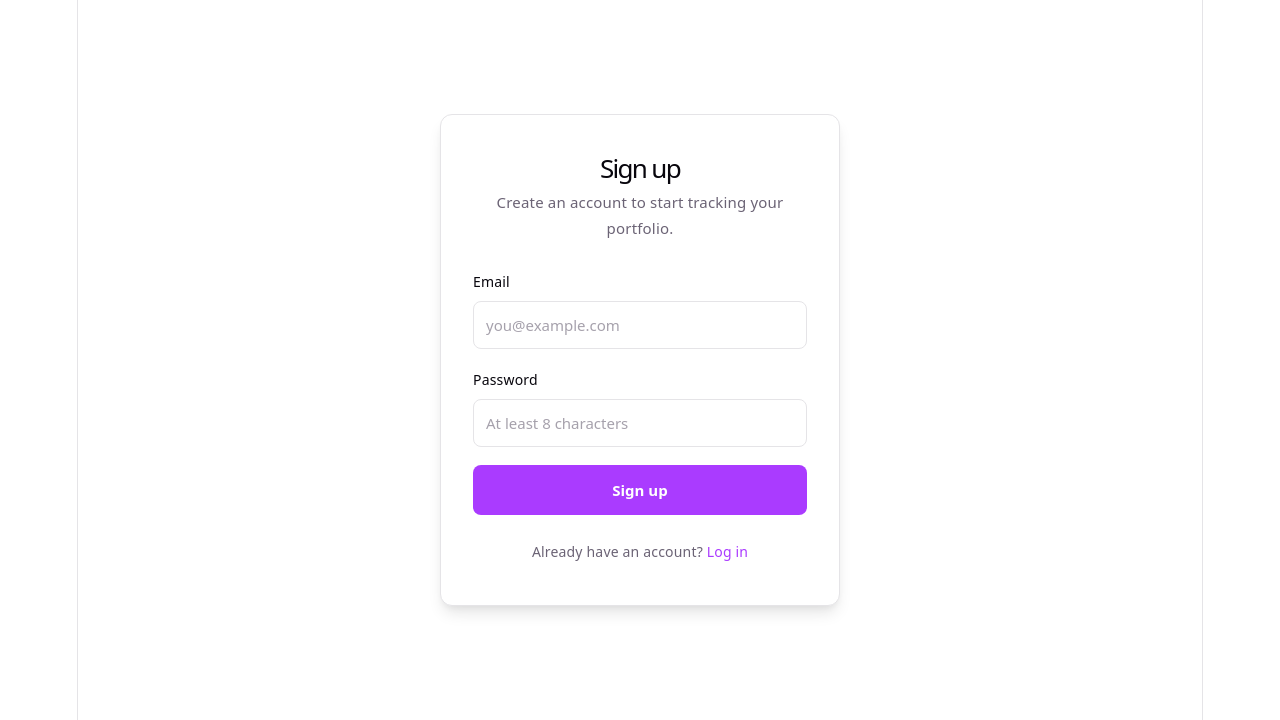
SignupPage › blocks submission and shows validation errors on invalid input
In the field labelled "Email": (640, 325) [473,301,807,349], type "not-an-email"
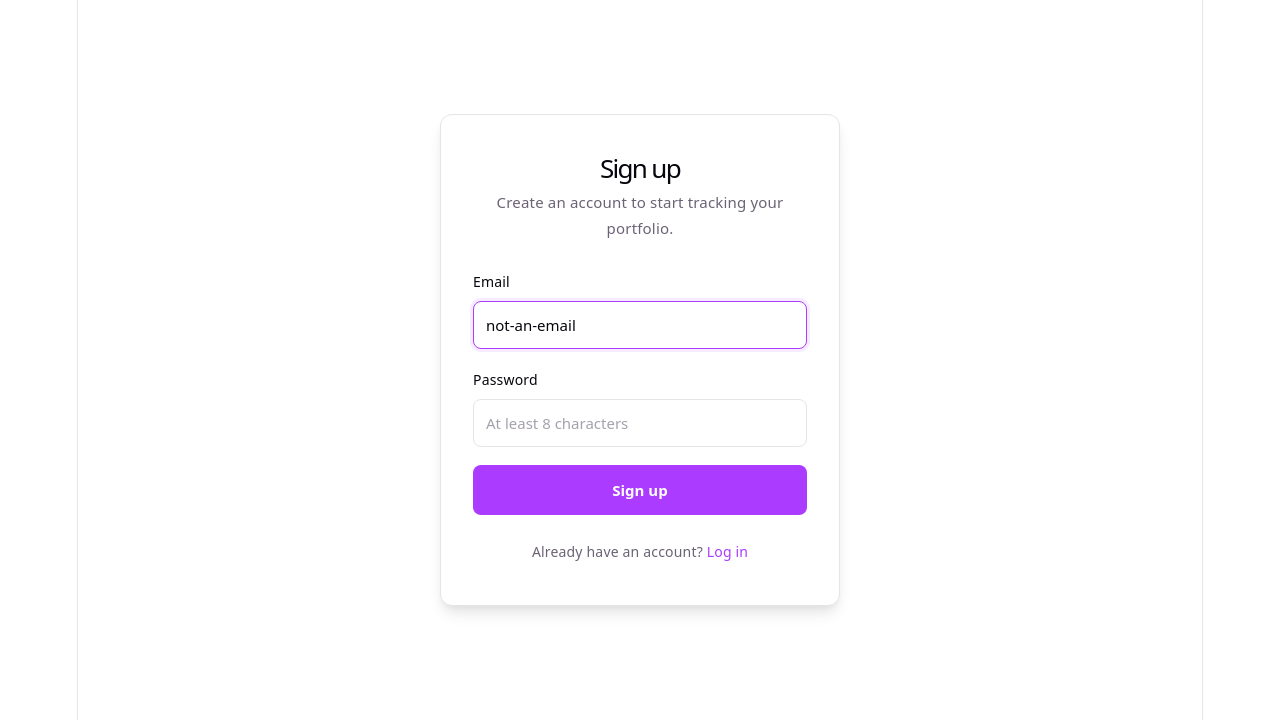
In the password field labelled "Password": (640, 423) [473,399,807,447], type "short"
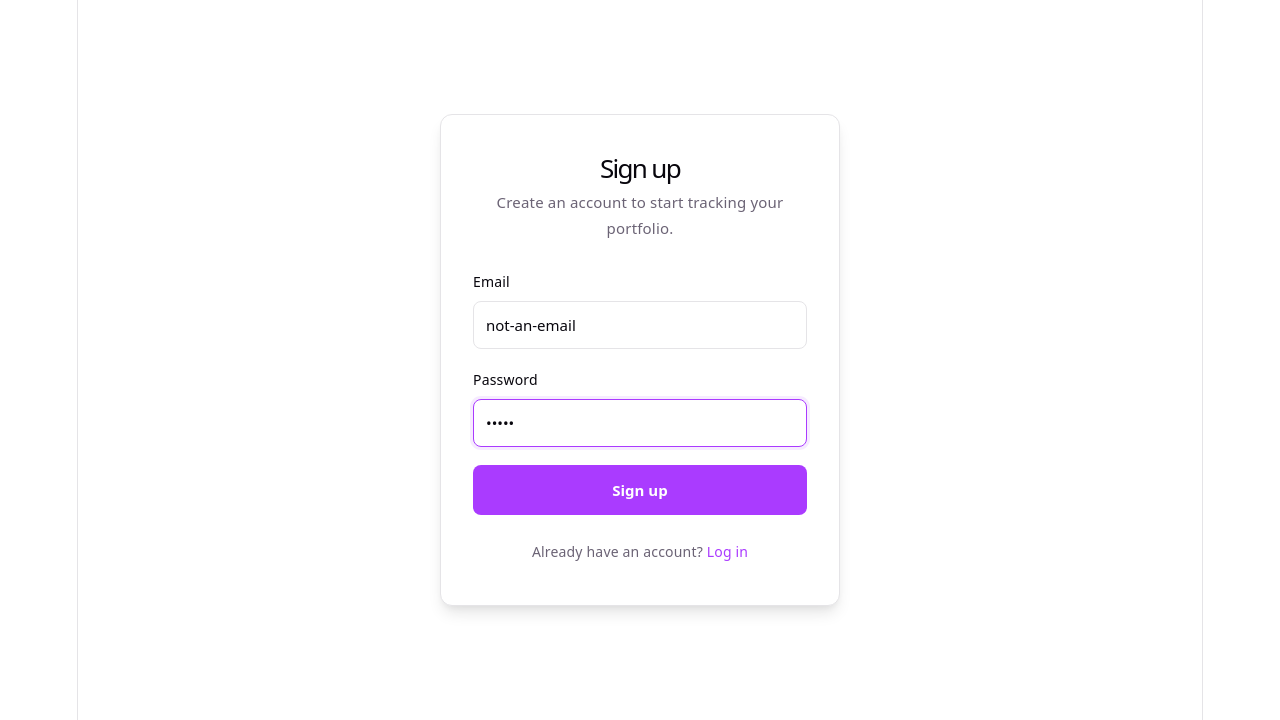
Click the button "Sign up": (640, 490) [473,465,807,515]
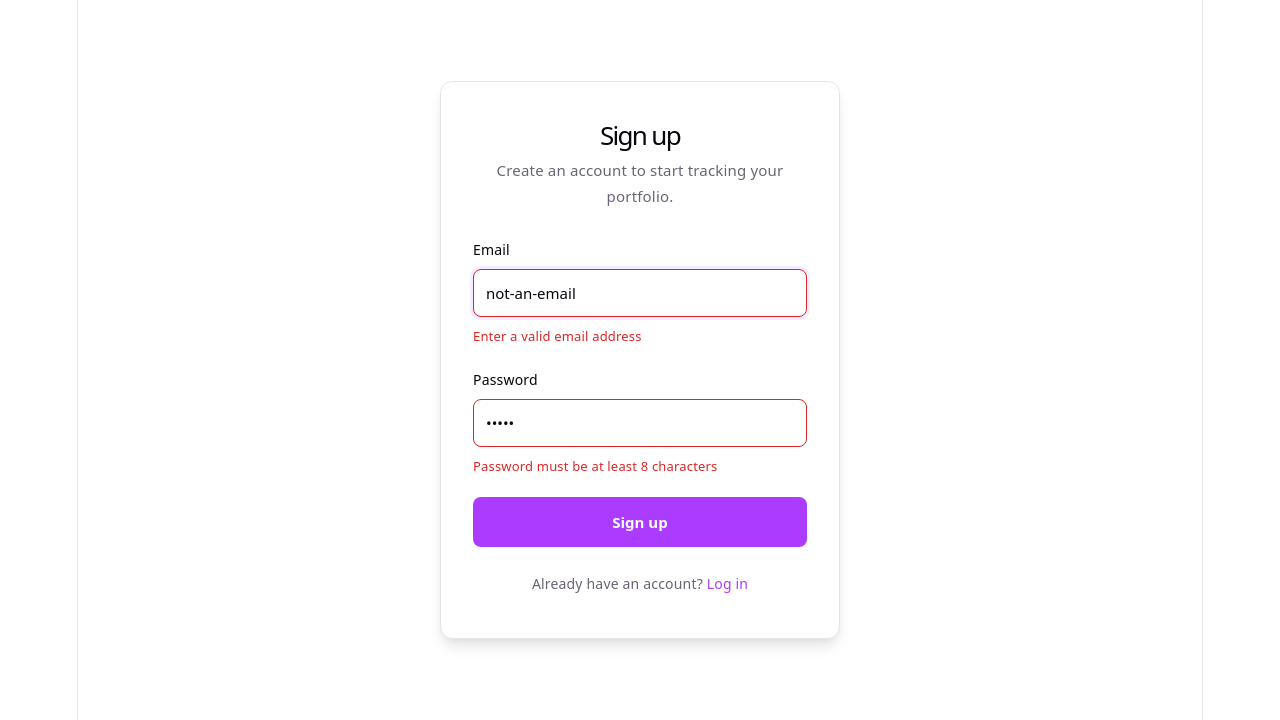
Expected: the text "Enter a valid email address" is shown, [473,327,642,345]
Expected: the text "Password must be at least 8 characters" is shown, [473,457,718,475]
